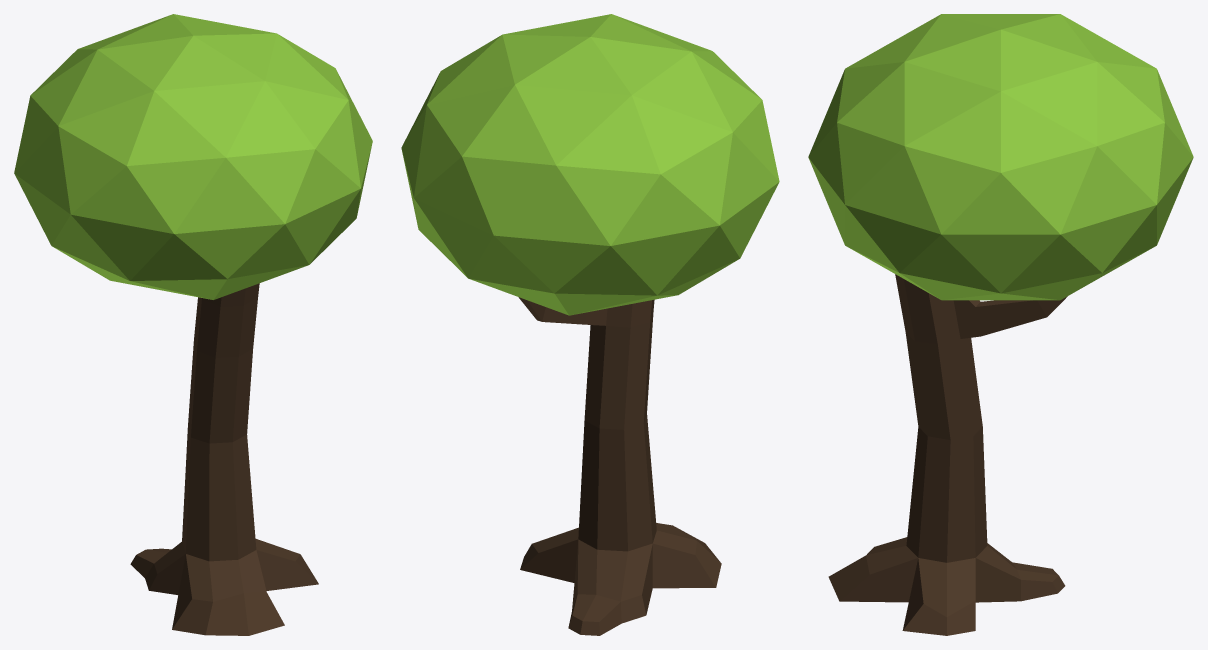
The model's file is Arbol3.fbx.
3 renders of one model, left to right at view 1: azimuth 30°, elevation 25°; view 2: azimuth 150°, elevation 25°; view 3: azimuth 270°, elevation 25°, orthographic. The views are drawn at different scales.
Parts seen in each view (by area): view 1: Cylinder.002; view 2: Cylinder.002; view 3: Cylinder.002.
Boxes of the visible parts, x1=… form: Cylinder.002: x1=14, y1=14, x2=372, y2=635; Cylinder.002: x1=401, y1=14, x2=779, y2=635; Cylinder.002: x1=808, y1=14, x2=1193, y2=635.
Bounding box in the file's own units: 190 × 326 × 200.
